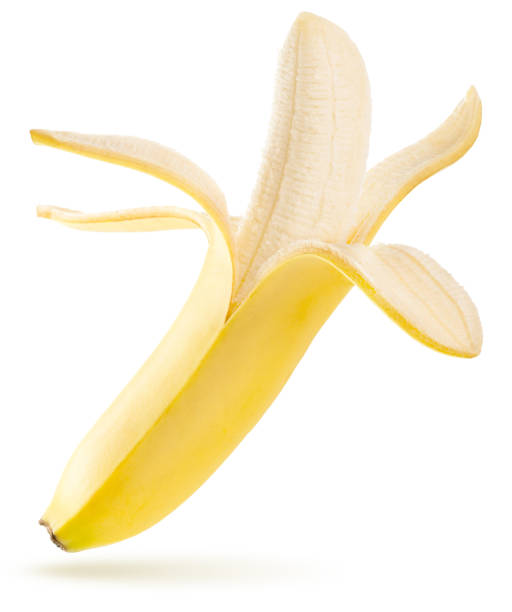banana: (19, 9, 512, 562)
